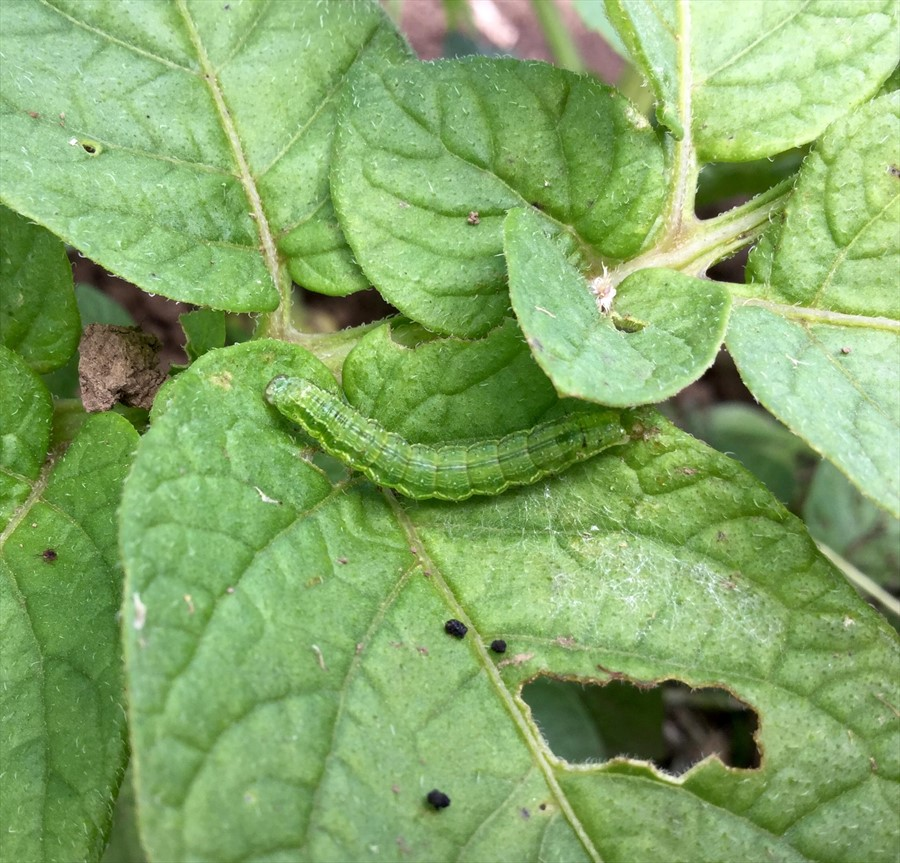Armyworm: (263, 341, 695, 530)
